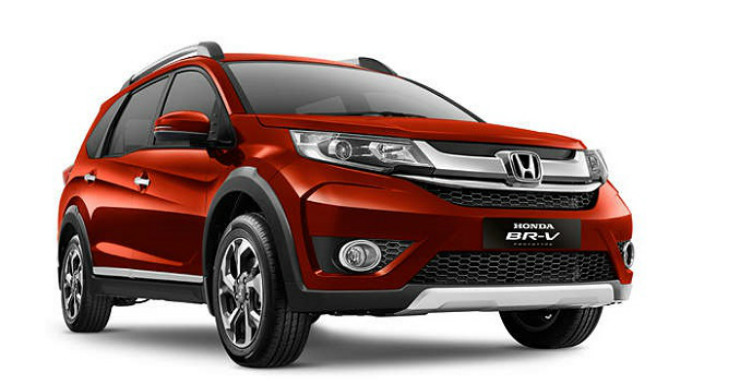car: (37, 36, 663, 376)
